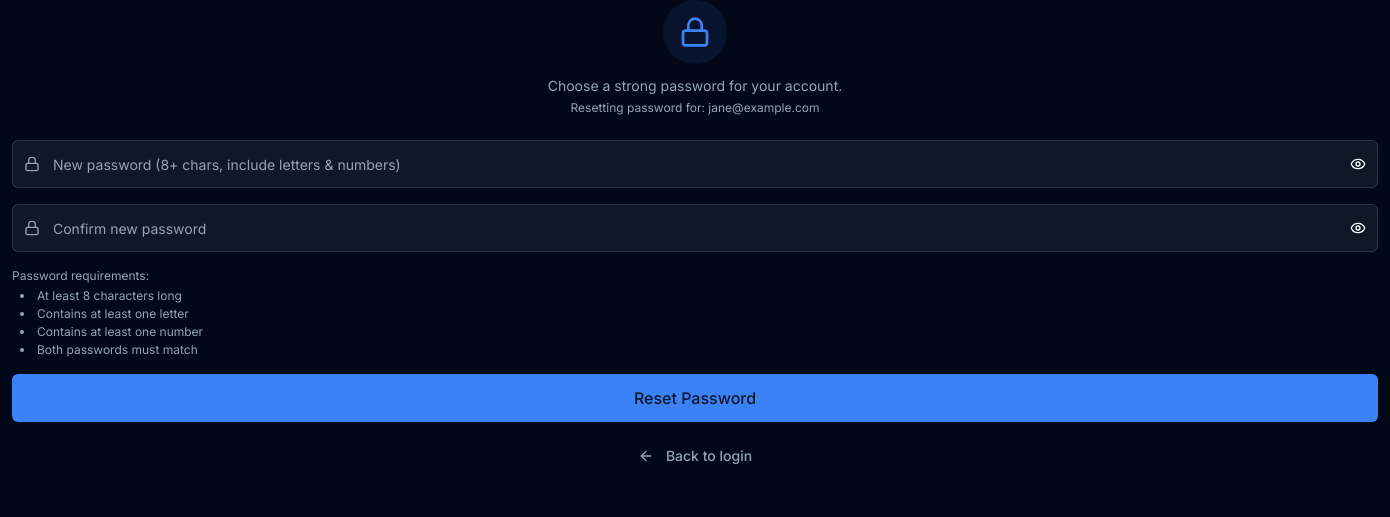
Test case: ResetPasswordForm › shows a translated error and keeps the session
This screenshot has width=1390, height=517.
Type "secret123" into the password field with placeholder "New password (8+ chars, include letters & numbers)" at (695, 164), box [12,140,1378,188]
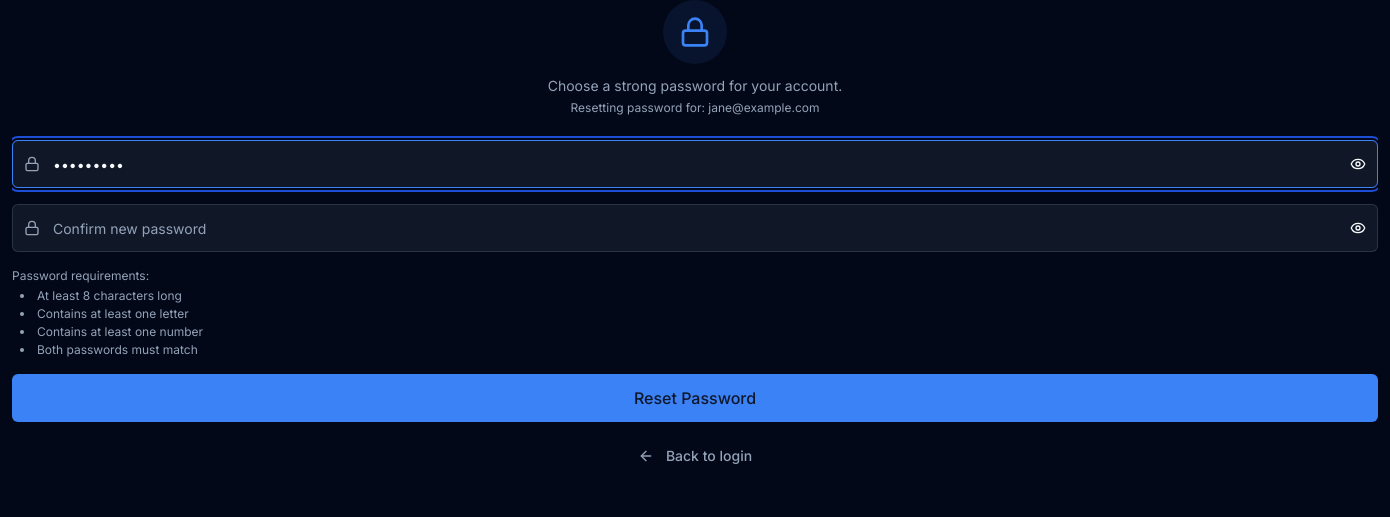
Type "secret123" into the password field with placeholder "Confirm new password" at (695, 228), box [12,204,1378,252]
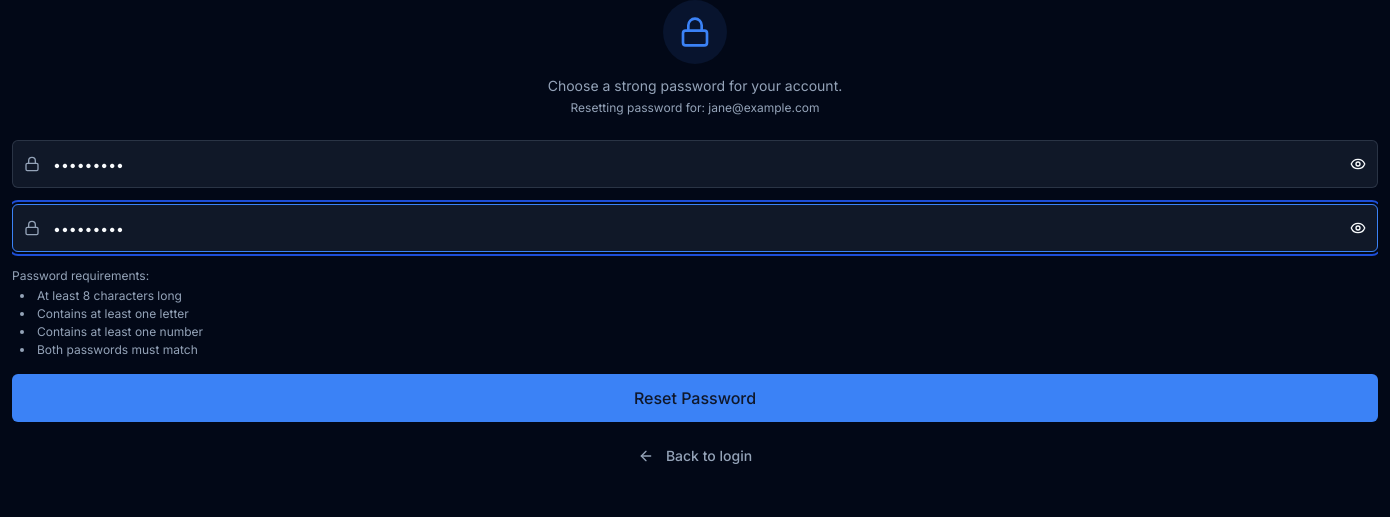
Click the button "Reset Password" at (695, 398), box [12,374,1378,422]
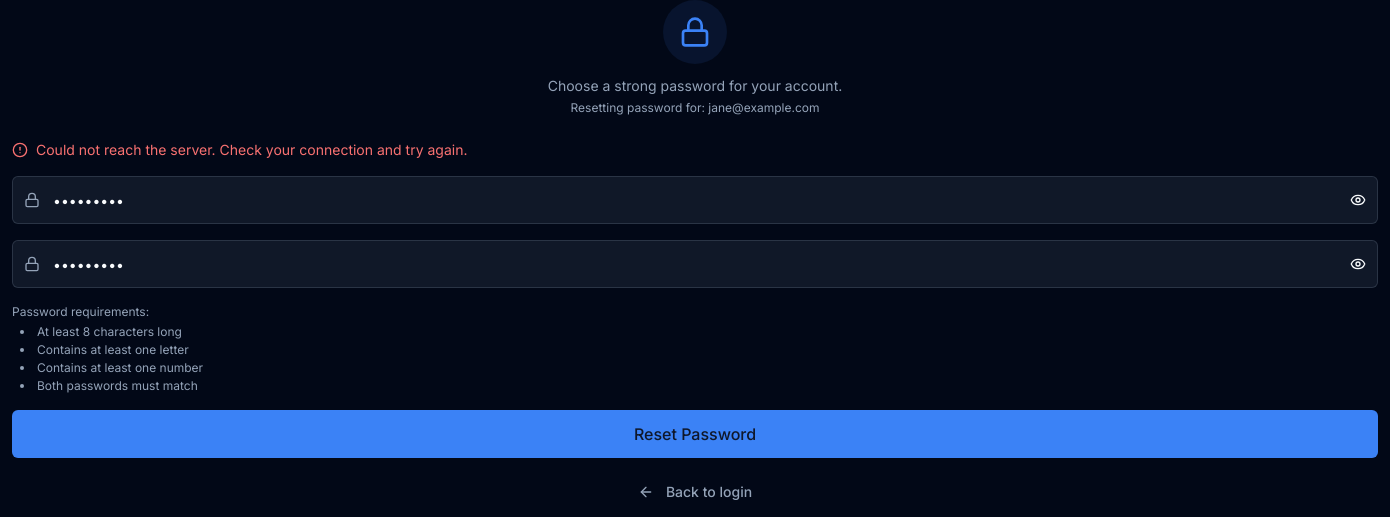
Expected: the text "Could not reach the server. Check your connection and try again." is shown, [36,140,468,160]
